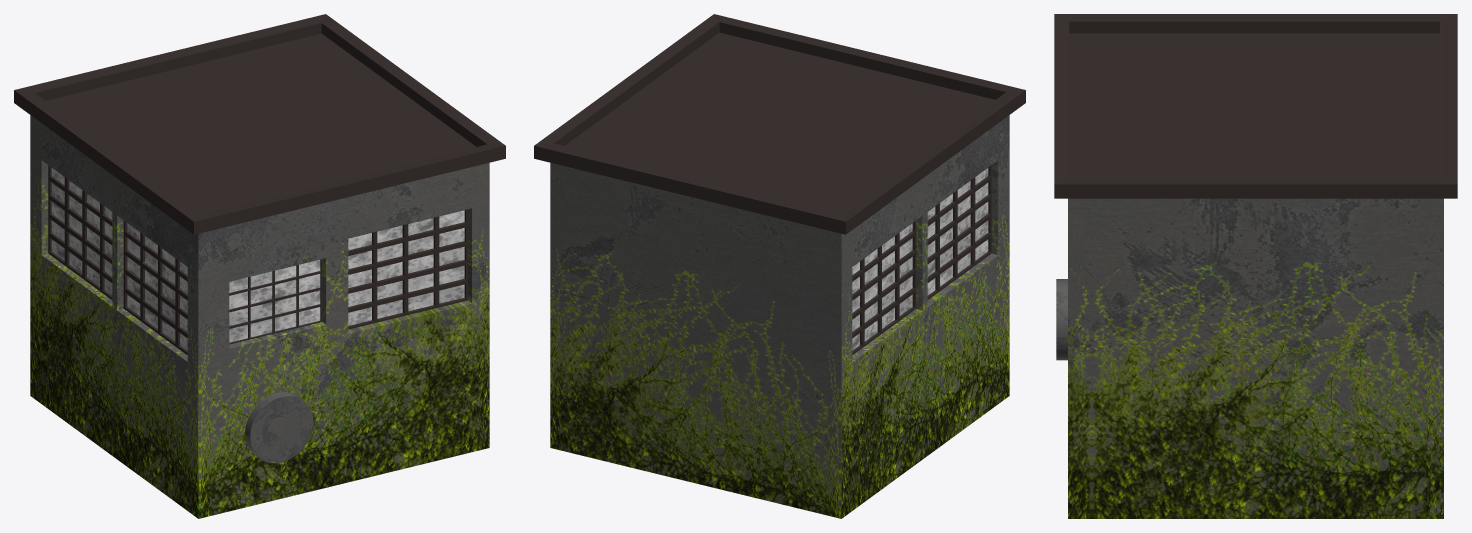
Rendered from greenfactory.fbx.
The picture shows the model from 3 angles, left to right: view 1: azimuth 30°, elevation 25°; view 2: azimuth 150°, elevation 25°; view 3: azimuth 270°, elevation 25°; orthographic projection. The views are drawn at different scales.
Parts seen in each view (by area): view 1: factory_green; view 2: factory_green; view 3: factory_green.
Boxes of the visible parts, left/top/right/bottom form: factory_green: left=14, top=14, right=505, bottom=518; factory_green: left=534, top=14, right=1025, bottom=518; factory_green: left=1054, top=14, right=1457, bottom=518.
Size of the model in its own units: 13.93 by 13.93 by 12.97.
Materials: 3 (2 with a texture image).
